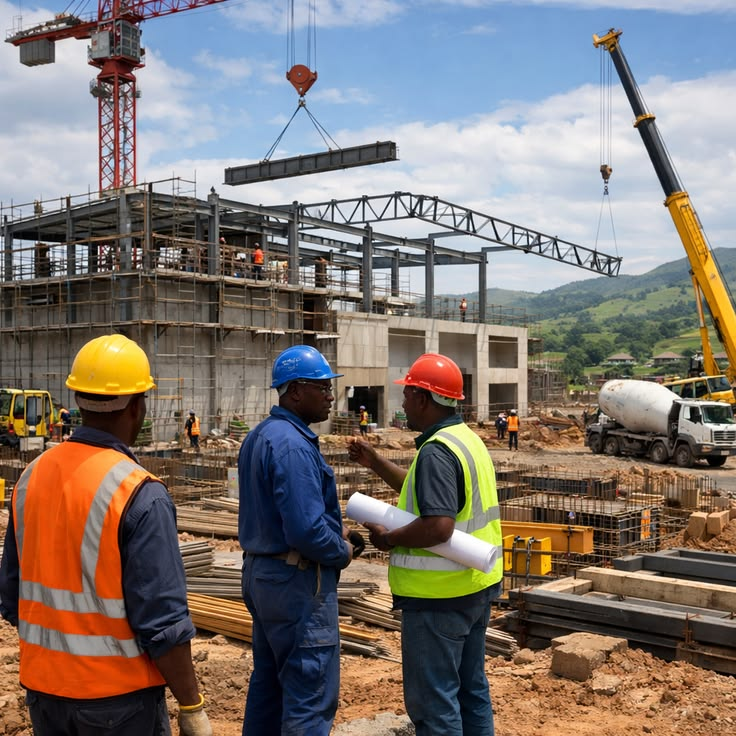crane: (10, 4, 415, 227), (533, 30, 731, 460)
hardhat: (71, 331, 151, 394), (400, 348, 465, 399), (277, 345, 341, 382)
no_safety_vest: (241, 413, 346, 574)
person: (9, 307, 209, 725), (220, 315, 370, 728), (379, 347, 520, 731), (175, 393, 217, 464), (497, 391, 533, 455), (247, 232, 265, 290)
safety_vest: (8, 441, 190, 705), (392, 425, 503, 596)
truck: (564, 342, 726, 476)
